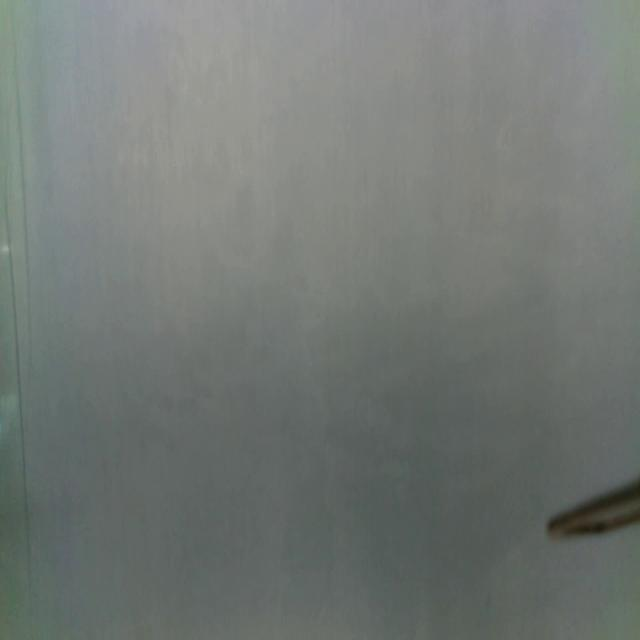crease: (0, 178, 32, 560), (12, 2, 31, 282)
